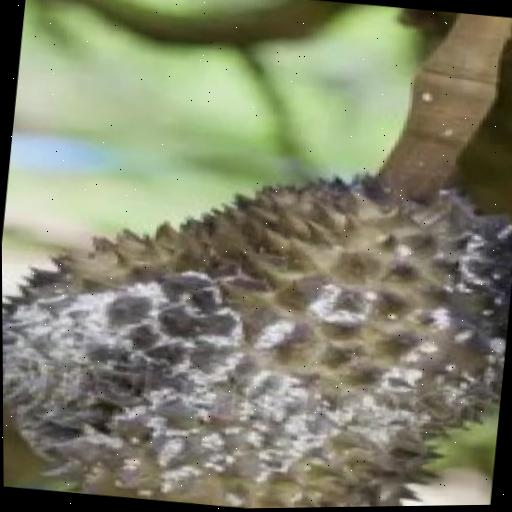mold: (1, 105, 512, 512)
